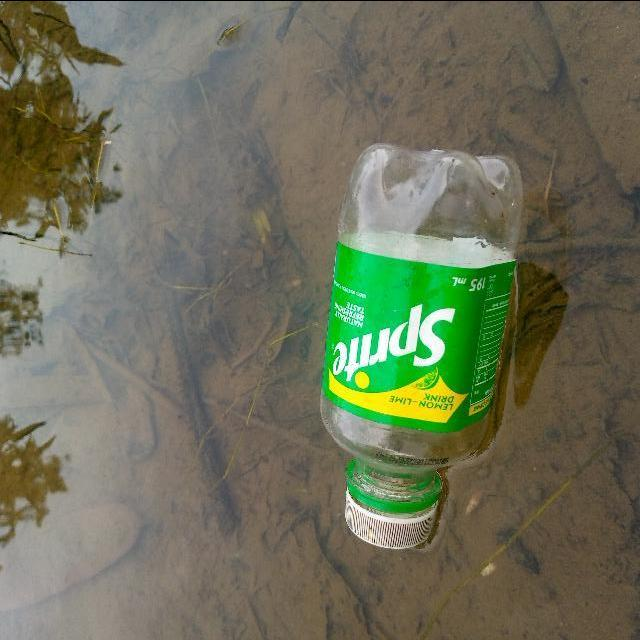Bottle: (312, 134, 536, 558)
